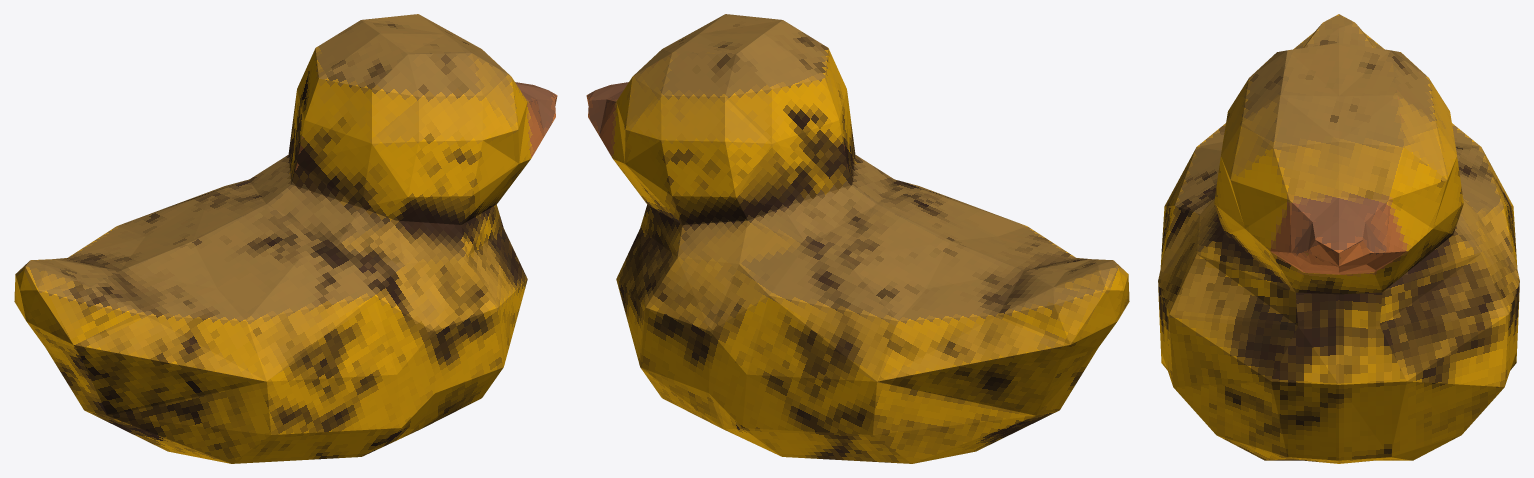
Rendered from DuckToy.glb.
The picture shows the model from 3 angles, left to right: view 1: azimuth 30°, elevation 25°; view 2: azimuth 150°, elevation 25°; view 3: azimuth 270°, elevation 25°; orthographic projection. The views are drawn at different scales.
Parts seen in each view (by area): view 1: Plane; view 2: Plane; view 3: Plane.
Part boxes in pixels (x1=…): Plane: x1=14, y1=14, x2=557, y2=463; Plane: x1=586, y1=14, x2=1129, y2=463; Plane: x1=1158, y1=14, x2=1519, y2=463.
Size of the model in its own units: 0.4713 by 0.3162 by 0.2503.
Materials: 1 (1 with a texture image).
